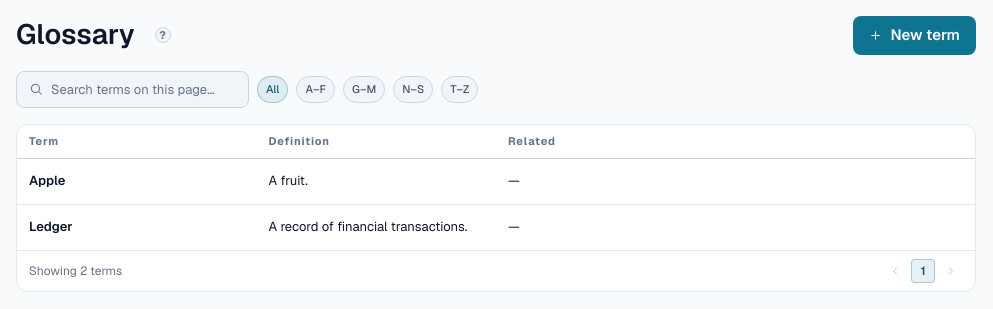
Test: GlossaryPage › filters rows by the alphabetic-range chips
Check: the text "Apple" is shown, box [29, 171, 65, 191]
Click the button "A–F": x=316, y=89 [296, 76, 335, 102]
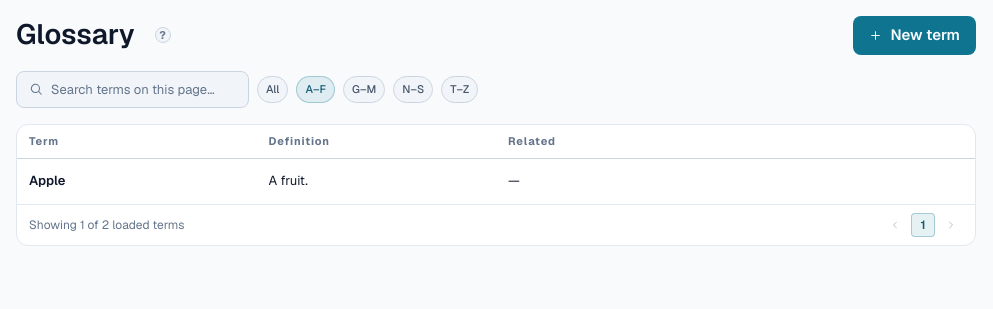
Check: the text "Apple" is shown, box [29, 171, 65, 191]
Check: the text "Ledger" is gone
